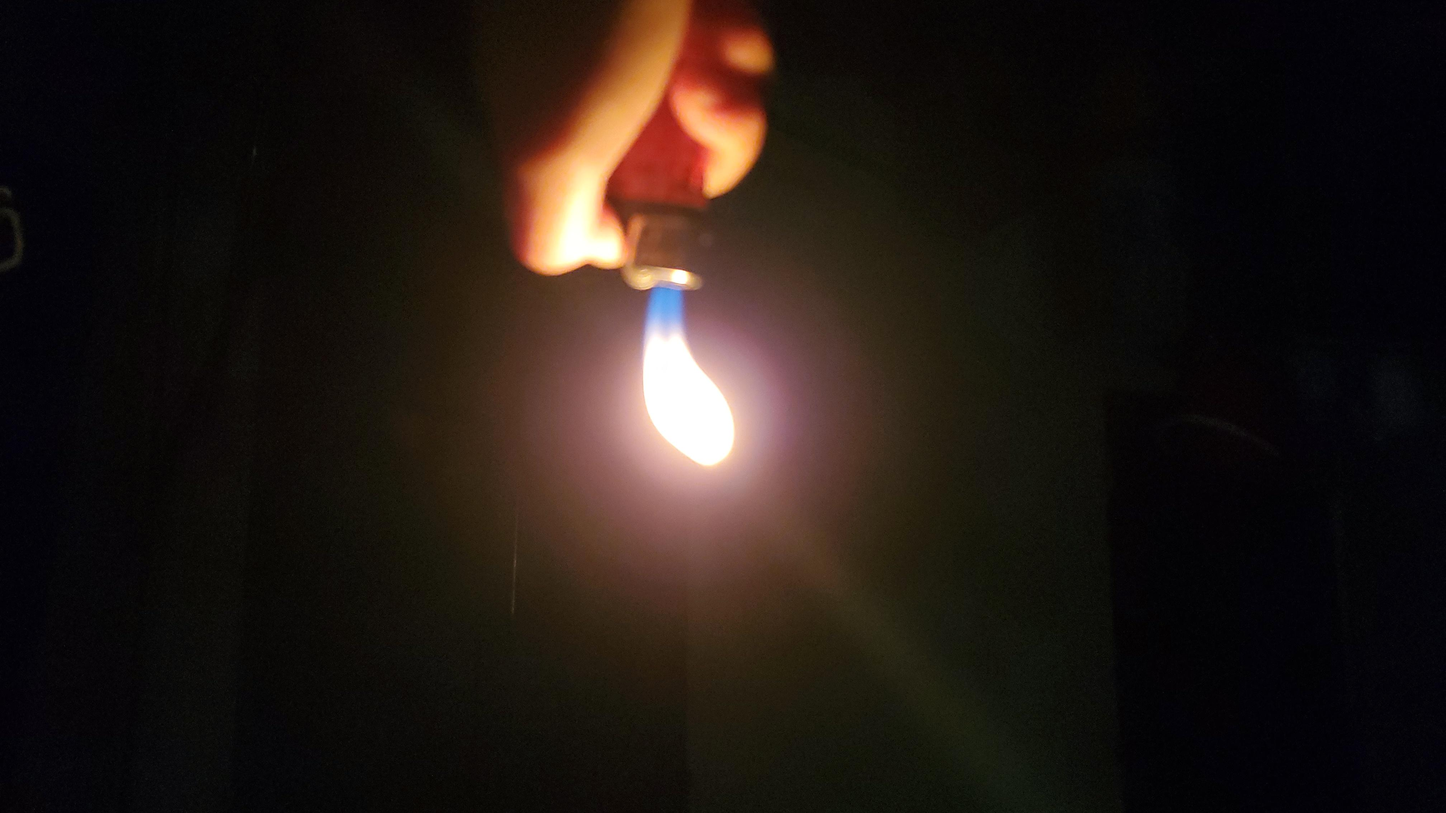fire: (707, 328, 844, 533)
